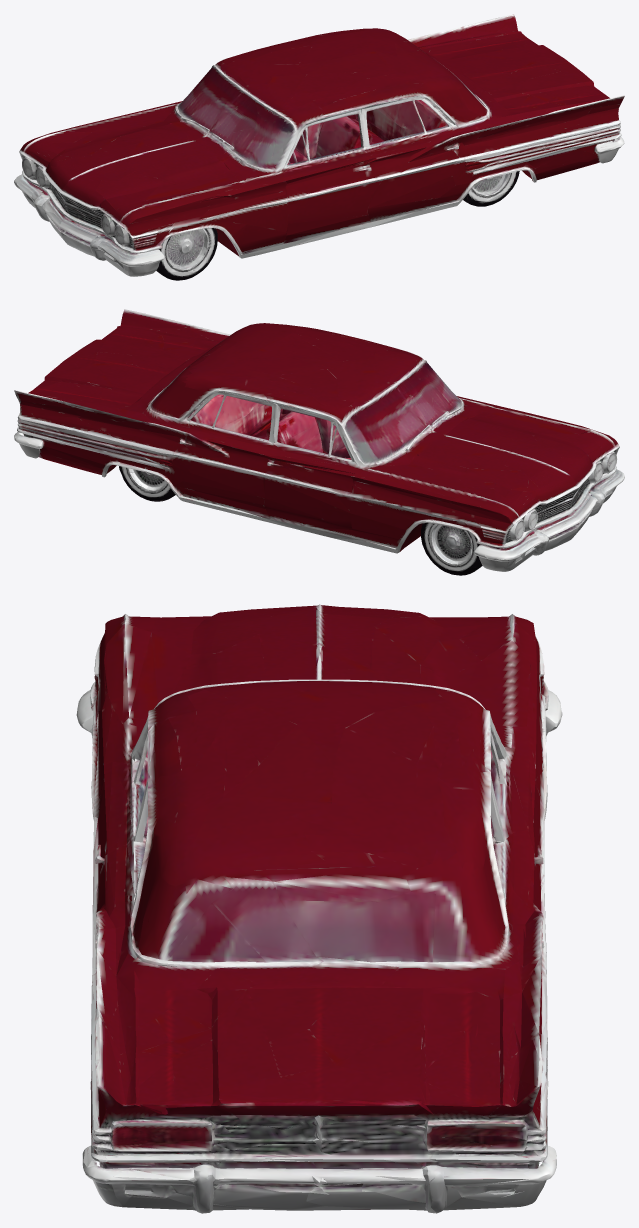
Rendered from classic.glb.
3 views of the same model, one above another, from view 1: azimuth 30°, elevation 25°; view 2: azimuth 150°, elevation 25°; view 3: azimuth 270°, elevation 25° (orthographic). The views are drawn at different scales.
Parts seen in each view (by area): view 1: Mesh_0; view 2: Mesh_0; view 3: Mesh_0.
Part boxes in pixels (<box>): Mesh_0: <box>14,14,624,280</box>; Mesh_0: <box>14,309,624,575</box>; Mesh_0: <box>76,604,562,1213</box>.
Bounding box in the file's own units: 1.9 × 0.474 × 0.7752.
Materials: 1 (1 with a texture image).
